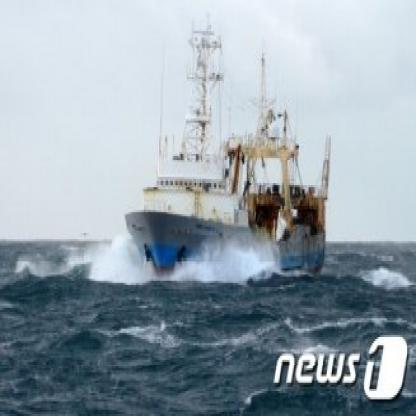Ship: (118, 1, 345, 292)
